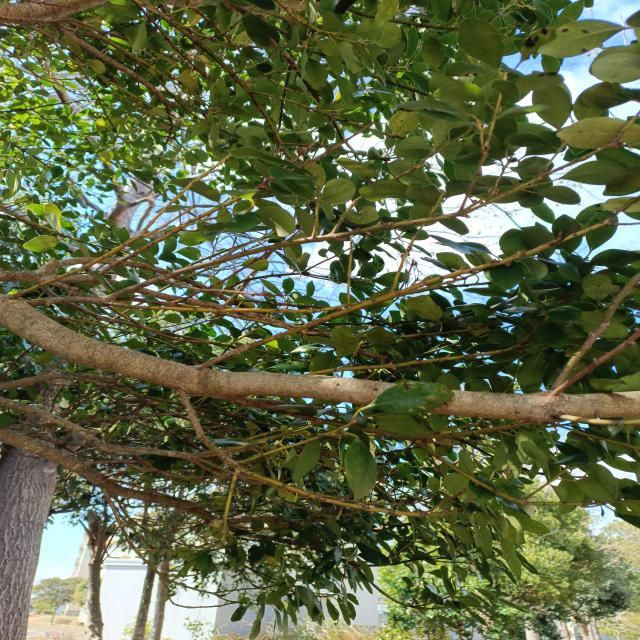Branch: (0, 294, 640, 420)
Twig: (31, 159, 577, 306), (203, 200, 633, 367), (180, 392, 458, 518), (0, 426, 290, 525), (0, 398, 290, 458), (0, 257, 264, 314), (46, 274, 295, 327), (35, 280, 231, 345), (0, 370, 157, 406)
